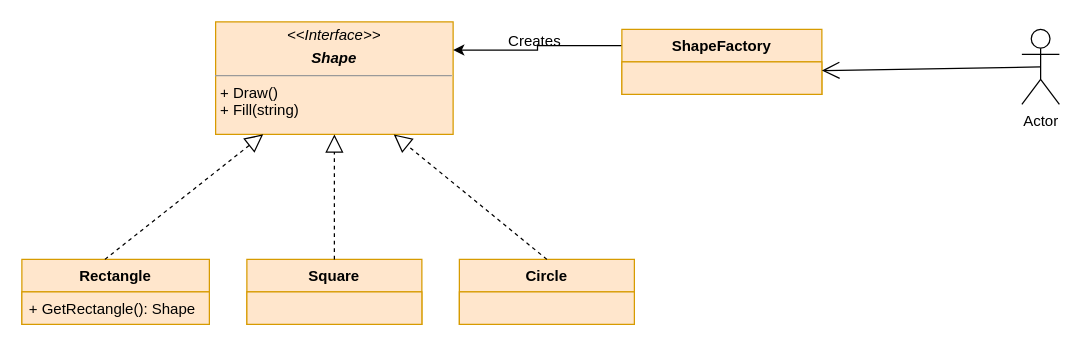
The diagram is 1081 pixels wide and 350 high, and some of its shapes have lost their labels. Each missing label, with the centre of its shape:
"+ GetCircle(): Shape" goes at point 546,307.
"+ GetShape(string): Shape" goes at point 721,77.
"+ GetSquare(): Shape" goes at point 334,307.
